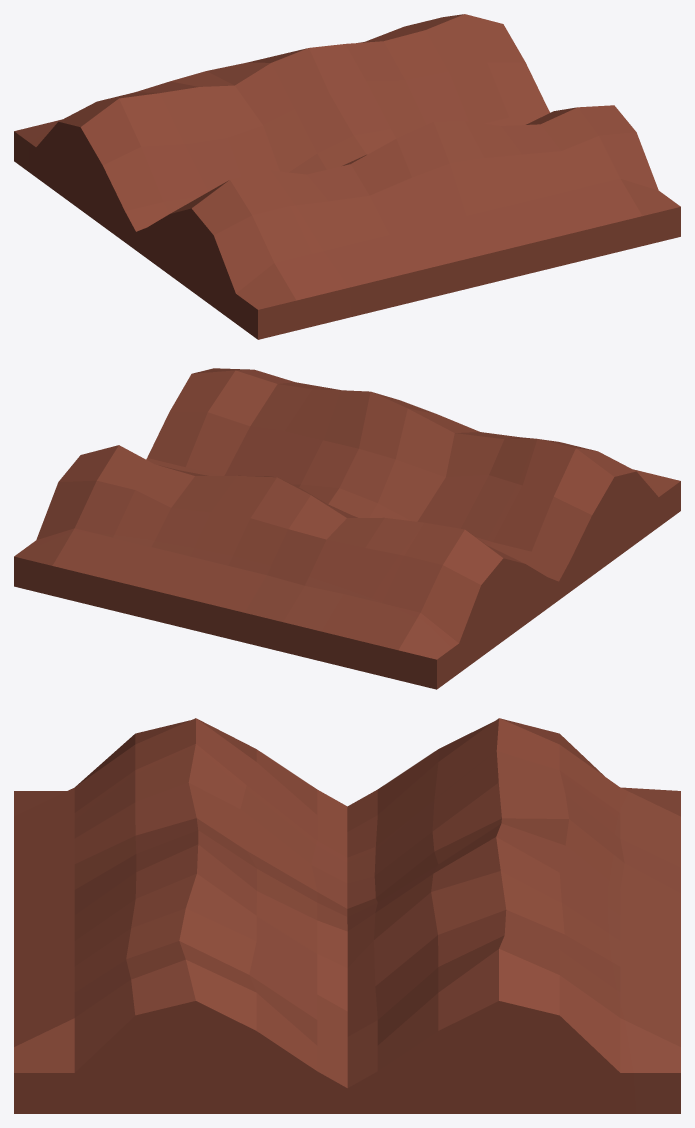
The model's file is Grond Omgeploegd.fbx.
The picture shows the model from 3 angles, top to bottom: view 1: azimuth 30°, elevation 25°; view 2: azimuth 150°, elevation 25°; view 3: azimuth 270°, elevation 25°; orthographic projection. The views are drawn at different scales.
Parts seen in each view (by area): view 1: tilted ground.003; view 2: tilted ground.003; view 3: tilted ground.003.
Boxes of the visible parts, left/top/right/bottom form: tilted ground.003: left=14, top=14, right=680, bottom=339; tilted ground.003: left=14, top=368, right=680, bottom=689; tilted ground.003: left=14, top=718, right=680, bottom=1113.
Bounding box in the file's own units: 2 × 0.4951 × 2.
